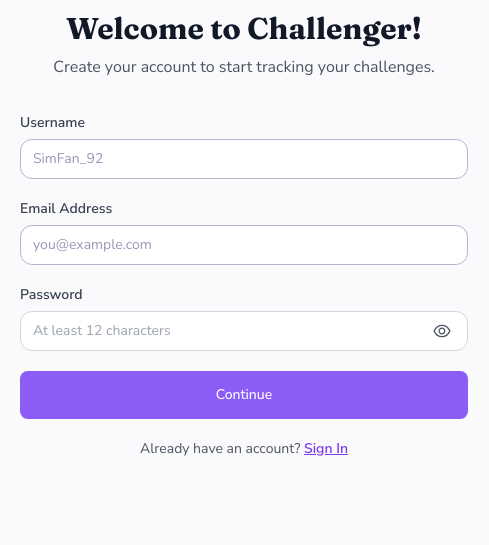
Test: AccountStep Component › Form Submission › prevents submission with invalid data
The image size is (489, 545).
In the field labelled "Username": (244, 159) [20,139,468,179], type "ab"
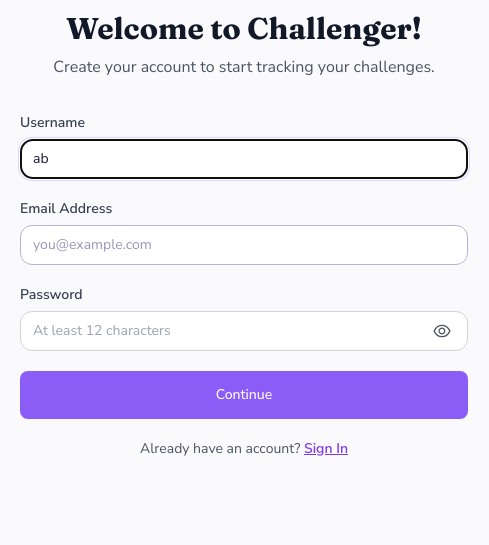
Click the button "Continue": (244, 395) [20,371,468,419]
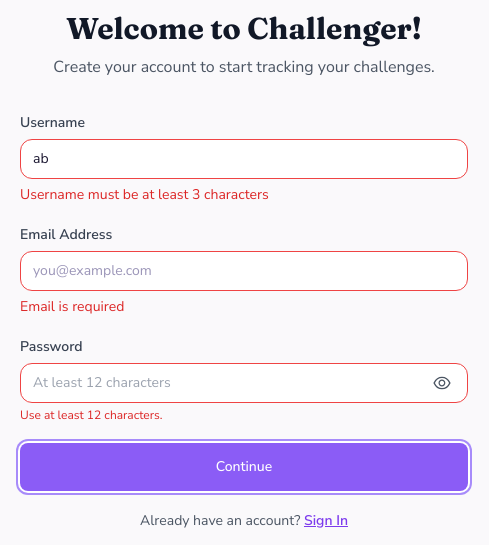
Expected: the text "Username must be at least 3 characters" is shown, [20,185,269,204]
